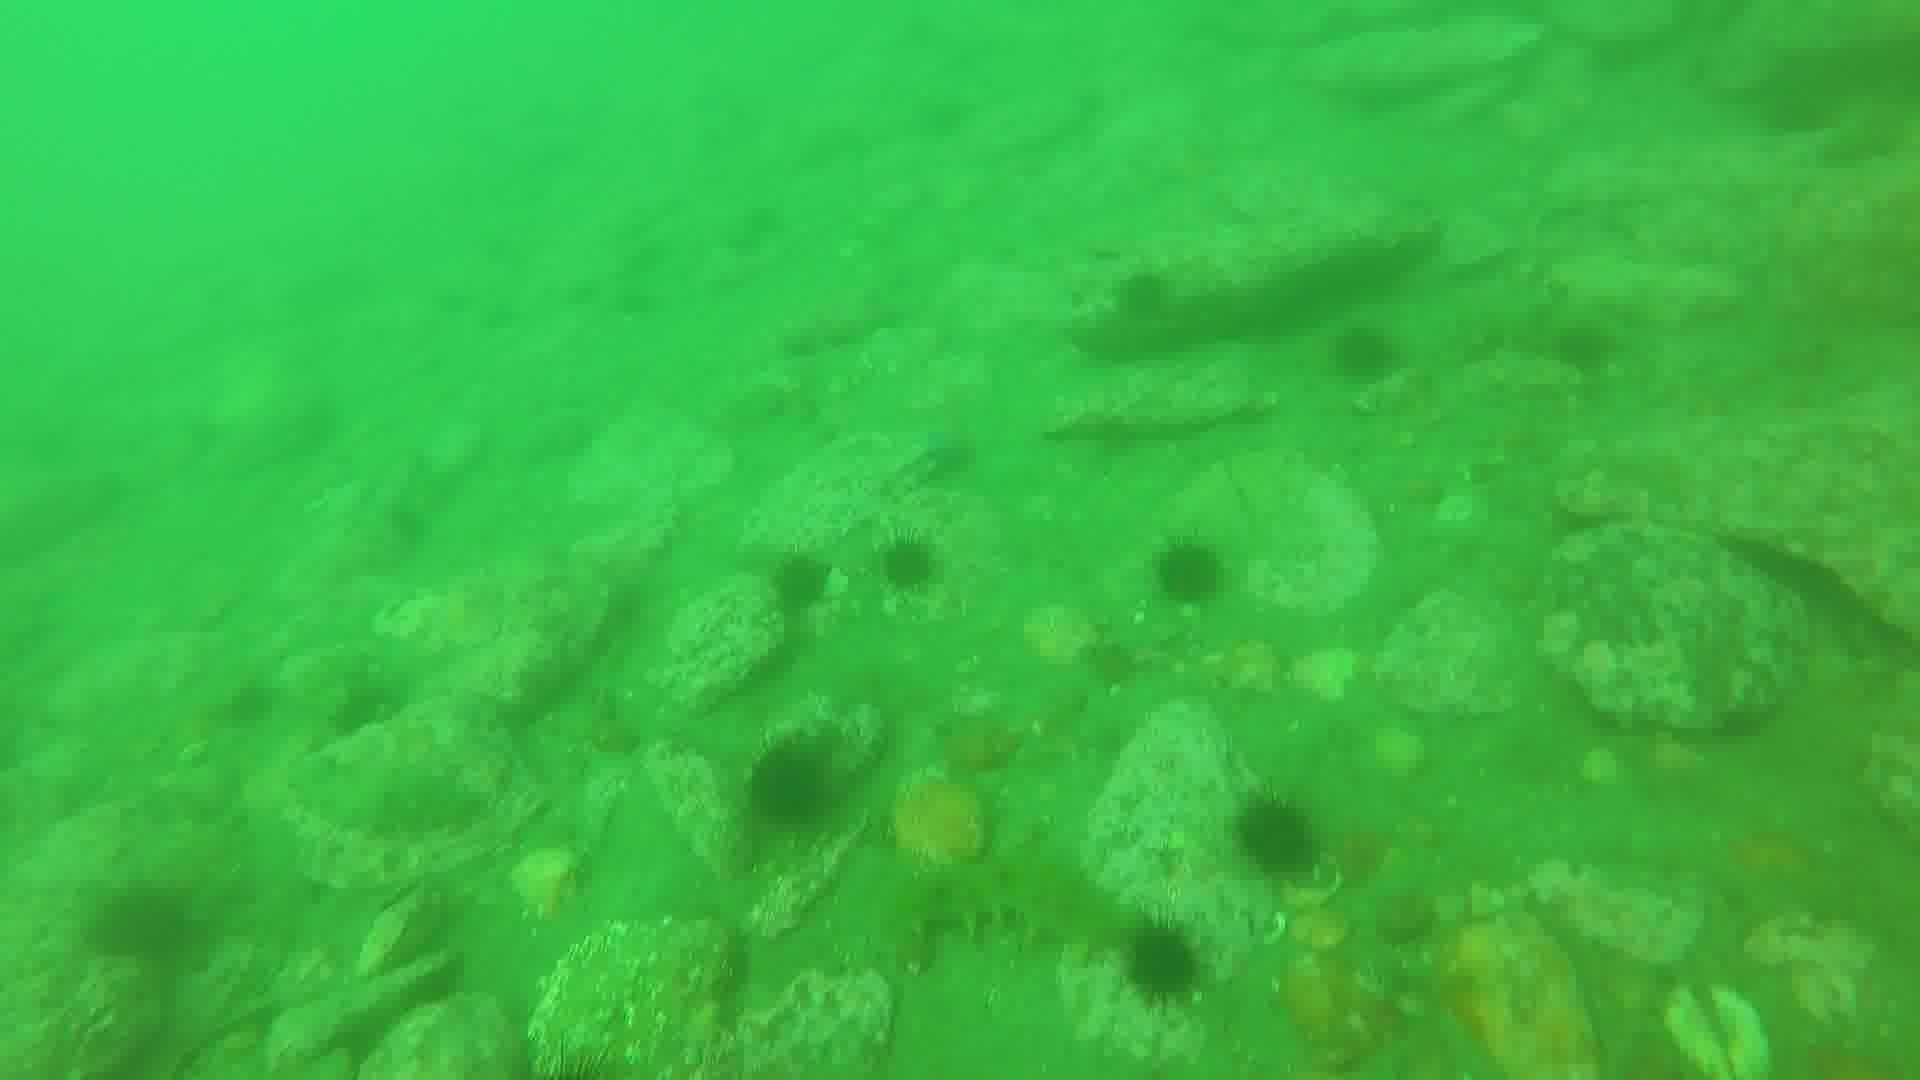echinus: (87, 880, 204, 971), (742, 738, 839, 833), (1228, 793, 1325, 885), (1116, 918, 1208, 1011), (1147, 535, 1230, 612), (324, 674, 410, 746), (1325, 320, 1404, 390), (764, 549, 837, 618), (872, 531, 944, 597), (1545, 318, 1621, 380), (1109, 265, 1178, 327), (218, 676, 280, 733)
holothurian: (899, 851, 1134, 961)
